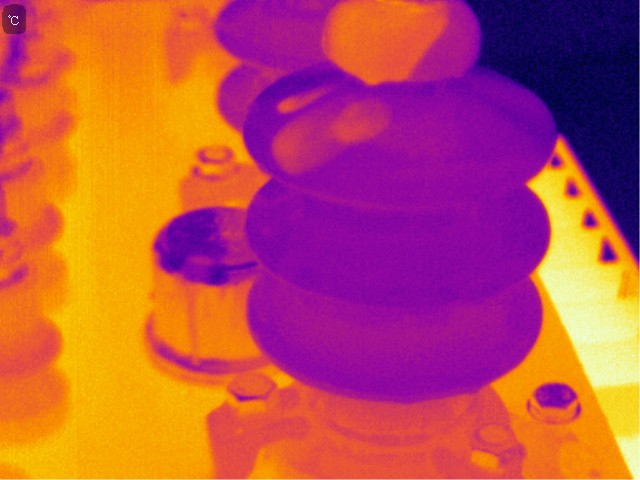Oil: (320, 1, 481, 86), (270, 113, 343, 175), (333, 99, 391, 144), (269, 85, 336, 111)
